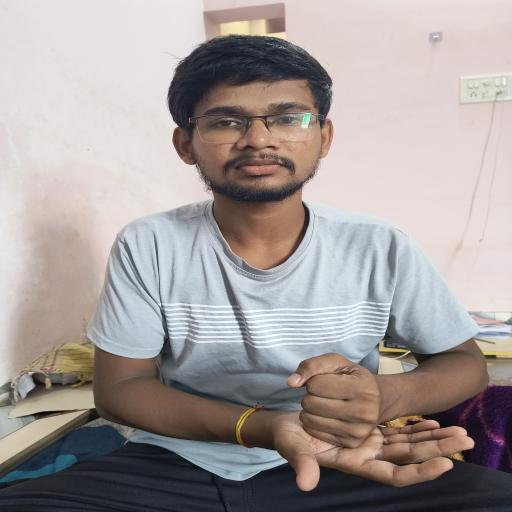Next: (247, 342, 483, 497)
